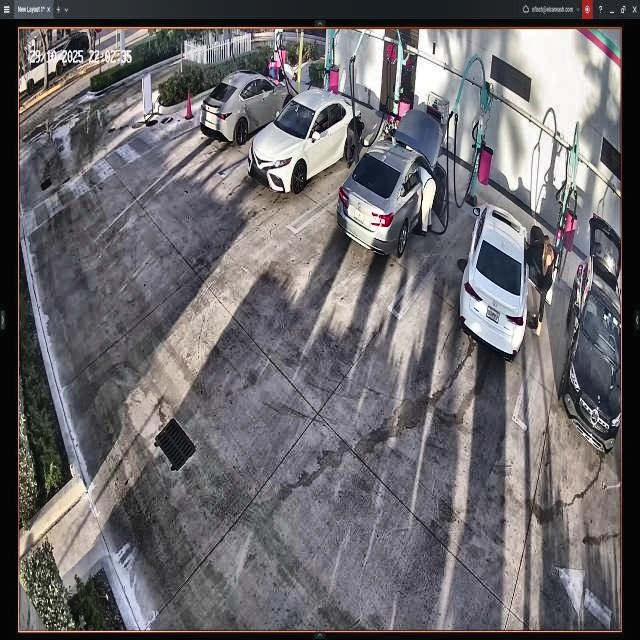Car: (337, 108, 440, 256), (252, 91, 364, 192), (463, 204, 529, 357), (201, 70, 296, 141)
